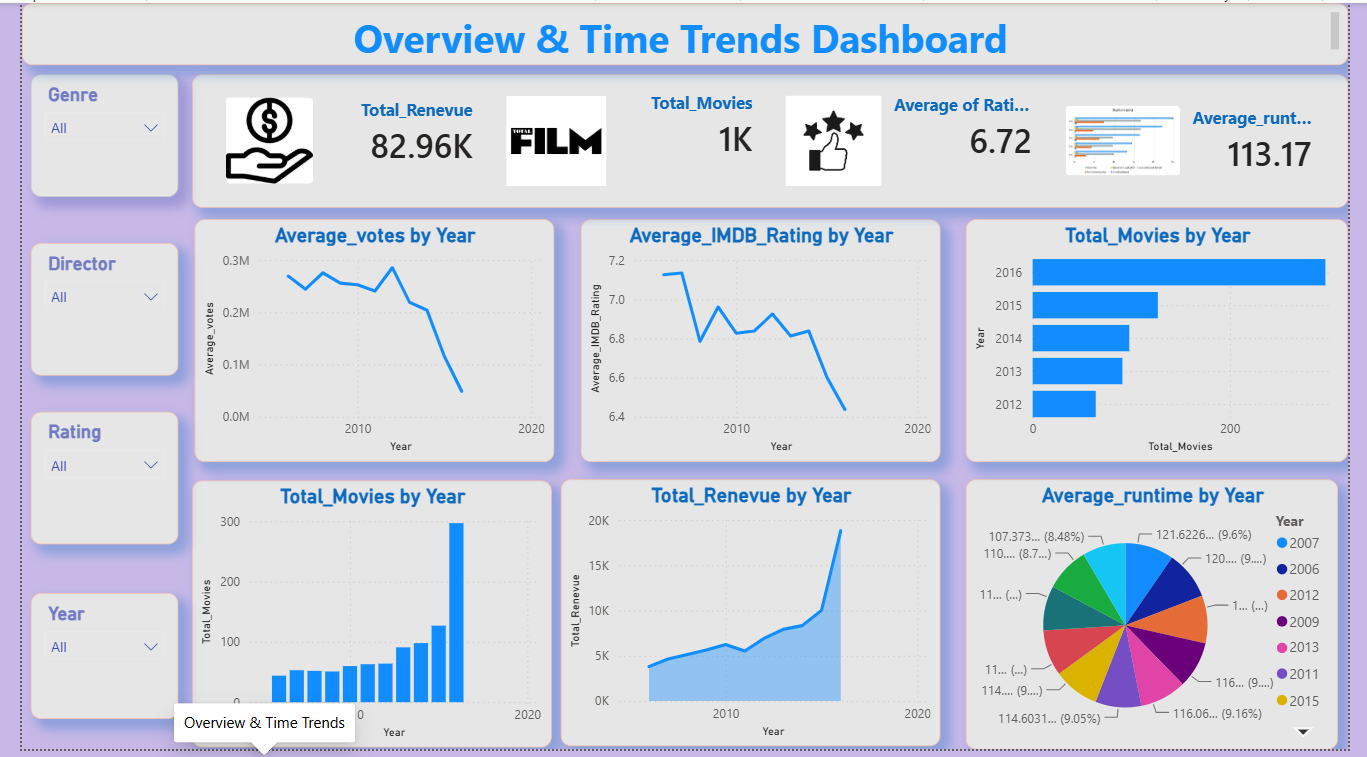

This screenshot's page, from the dashboard's own definition file:
{"tool":"powerbi","page":{"name":"Overview & Time Trends","canvas":[1280,720],"ordinal":0},"visuals":[{"type":"clusteredColumnChart","fields":{"Category":["IMDB-Movie-Data.Year"],"Y":["IMDB-Movie-Data.Total_Movies"]},"box":[164.7,461.1,347.2,258],"z":0},{"type":"areaChart","fields":{"Category":["IMDB-Movie-Data.Year"],"Y":["IMDB-Movie-Data.Total_Renevue"]},"box":[520.1,459.7,366.4,258],"z":1000},{"type":"lineChart","fields":{"Category":["IMDB-Movie-Data.Year"],"Y":["IMDB-Movie-Data.Average_IMDB_Rating"]},"box":[539.3,208.6,347.2,234.6],"z":2000},{"type":"pieChart","fields":{"Category":["IMDB-Movie-Data.Year"],"Y":["IMDB-Movie-Data.Average_runtime"]},"box":[911.2,459.7,359.5,260.7],"z":3000},{"type":"cardVisual","fields":{"Data":["IMDB-Movie-Data.Total_Renevue","IMDB-Movie-Data.Total_Movies","Avg(IMDB-Movie-Data.Rating)","IMDB-Movie-Data.Average_runtime"]},"box":[164.1,68.8,1116,129.1],"z":5000},{"type":"barChart","fields":{"Category":["IMDB-Movie-Data.Year"],"Y":["IMDB-Movie-Data.Total_Movies"]},"box":[910.9,208.7,369.2,234],"z":6000},{"type":"lineChart","fields":{"Category":["IMDB-Movie-Data.Year"],"Y":["IMDB-Movie-Data.Average_votes"]},"box":[166,208.6,347.2,234.6],"z":7000},{"type":"slicer","fields":{"Values":["IMDB-Movie-Data.Genre"]},"box":[8.4,68.8,142.4,118.2],"z":8000},{"type":"slicer","fields":{"Values":["IMDB-Movie-Data.Director"]},"box":[8.4,231.6,142.4,127.9],"z":9000},{"type":"slicer","fields":{"Values":["IMDB-Movie-Data.Rating"]},"box":[8.4,394.5,142.4,127.9],"z":10000},{"type":"slicer","fields":{"Values":["IMDB-Movie-Data.Year"]},"box":[8.4,569.4,142.4,121.9],"z":11000},{"type":"textbox","box":[0,0,1280,60.3],"z":12000}]}

Visuals, with their boxes in screenshot pixels (x1, y1, x2, y2):
clusteredColumnChart - IMDB-Movie-Data.Year x IMDB-Movie-Data.Total_Movies: detection(189, 479, 549, 747)
areaChart - IMDB-Movie-Data.Year x IMDB-Movie-Data.Total_Renevue: detection(558, 477, 939, 745)
lineChart - IMDB-Movie-Data.Year x IMDB-Movie-Data.Average_IMDB_Rating: detection(578, 217, 939, 460)
pieChart - IMDB-Movie-Data.Year x IMDB-Movie-Data.Average_runtime: detection(964, 477, 1338, 748)
cardVisual - IMDB-Movie-Data.Total_Renevue x IMDB-Movie-Data.Total_Movies: detection(188, 71, 1347, 206)
barChart - IMDB-Movie-Data.Year x IMDB-Movie-Data.Total_Movies: detection(964, 217, 1347, 460)
lineChart - IMDB-Movie-Data.Year x IMDB-Movie-Data.Average_votes: detection(190, 217, 551, 460)
slicer - IMDB-Movie-Data.Genre: detection(27, 71, 174, 194)
slicer - IMDB-Movie-Data.Director: detection(27, 241, 174, 373)
slicer - IMDB-Movie-Data.Rating: detection(27, 410, 174, 543)
slicer - IMDB-Movie-Data.Year: detection(27, 591, 174, 718)
textbox: detection(18, 0, 1347, 63)
